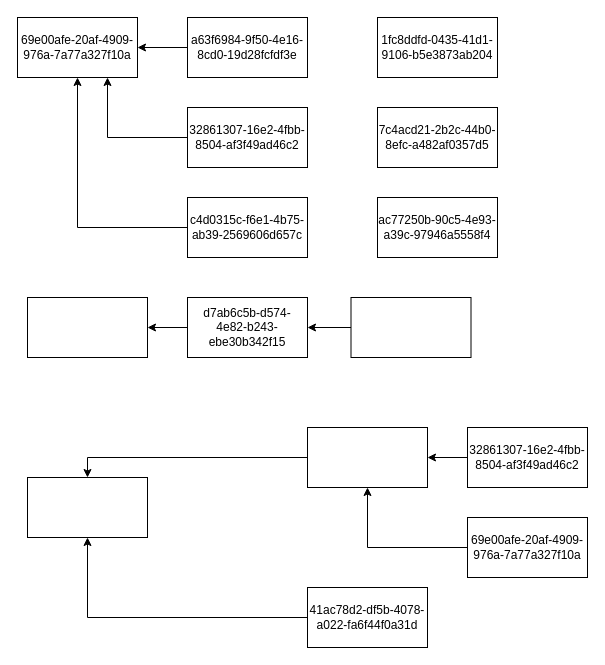
The diagram is 605 pixels wide and 665 high, and some of its shapes have lost their labels. Each missing label, with the box of its shape:
a9dd4fd4-73b6-464f-87b7-dc408c19430d: (26, 296, 148, 358)
b824d3c1-55a3-479d-bfaa-e66a9c774fef: (350, 296, 471, 358)
bfe858d5-4159-4450-96d4-bfd05ffa2af4: (306, 426, 428, 488)
cf064fd6-f324-4a2f-9dc0-3f27a2e789c5: (26, 476, 148, 538)
